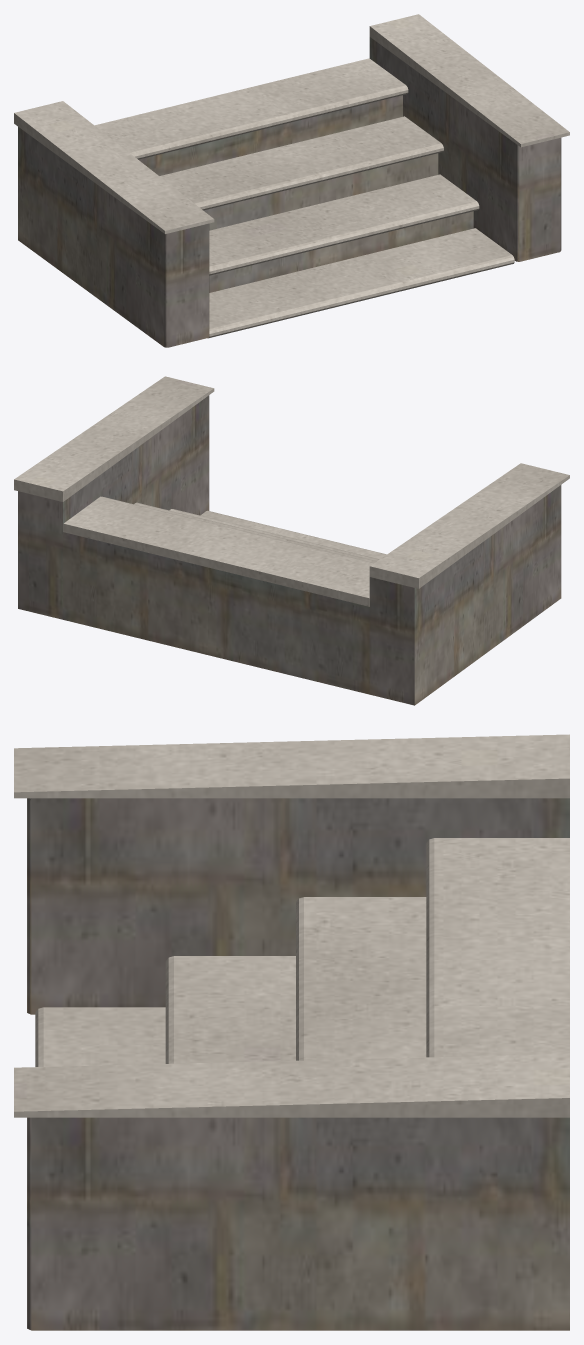
Rendered from back_steps.glb.
3 views of the same model, one above another, from view 1: azimuth 30°, elevation 25°; view 2: azimuth 150°, elevation 25°; view 3: azimuth 270°, elevation 25° (orthographic). The views are drawn at different scales.
Visible parts, largest first — view 1: back_steps_cap, back_steps_stone; view 2: back_steps_stone, back_steps_cap; view 3: back_steps_stone, back_steps_cap.
Part boxes in pixels (left/top/right/bottom): back_steps_cap: left=14, top=14, right=569, bottom=338; back_steps_stone: left=18, top=37, right=561, bottom=347; back_steps_stone: left=18, top=395, right=561, bottom=705; back_steps_cap: left=14, top=376, right=569, bottom=606; back_steps_stone: left=27, top=798, right=569, bottom=1330; back_steps_cap: left=14, top=734, right=569, bottom=1117.
Size of the model in its own units: 1.98 by 0.62 by 1.28.
2 materials, 2 textured.
